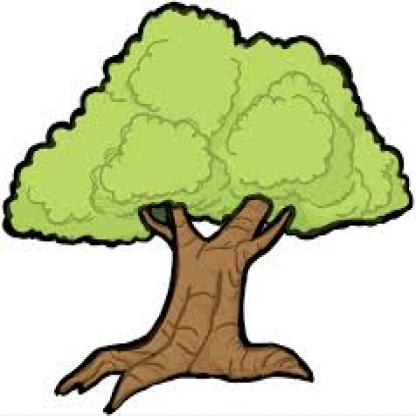branch_cut: (138, 200, 294, 262)
crown_cloud: (5, 4, 410, 249)
root_only: (52, 328, 315, 413)
trunk_straight: (146, 265, 252, 344)
